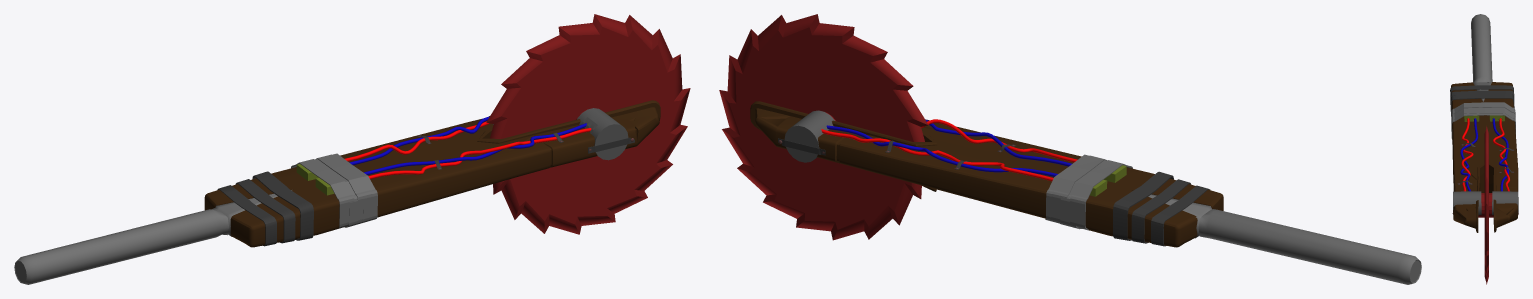
Rendered from RipperCricket 1.FBX.
3 views of the same model, side by side, from view 1: azimuth 30°, elevation 25°; view 2: azimuth 150°, elevation 25°; view 3: azimuth 270°, elevation 25° (orthographic). The views are drawn at different scales.
Parts seen in each view (by area): view 1: SawBlade, BatBlade, BatHandle, Power1, Metal07, Ducktape03, Metal05, Ducktape02, Metal06, Wire01, Wire02, Ducktape04 (+3 smaller); view 2: SawBlade, BatBlade, BatHandle, Power002, Metal07, Ducktape03, Ducktape02, Metal05, Metal06, Wire03, Wire04, Wire01 (+3 smaller); view 3: BatBlade, BatHandle, SawBlade, Power1, Ducktape03, Ducktape02, Metal07, Power002, Metal06, Metal05, Wire02, Wire03 (+6 smaller).
Boxes of the visible parts, x1,y1,x2,y2 form: SawBlade: (486,14,690,234); BatBlade: (204,100,660,247); BatHandle: (14,190,291,284); Power1: (577,108,628,160); Metal07: (252,171,313,240); Ducktape03: (291,159,354,228); Metal05: (235,179,295,243); Ducktape02: (315,154,372,220); Metal06: (217,185,276,246); Wire01: (368,128,591,179); Wire02: (364,123,586,174); Ducktape04: (332,153,377,222); SawBlade: (719,14,928,240); BatBlade: (750,101,1223,247); BatHandle: (1148,194,1421,284); Power002: (784,110,834,162); Metal07: (1113,171,1173,240); Ducktape03: (1070,160,1132,230); Ducktape02: (1051,155,1107,221); Metal05: (1131,179,1191,243); Metal06: (1151,185,1210,246); Wire03: (821,129,1053,181); Wire04: (826,125,1057,176); Wire01: (921,119,1077,162); BatBlade: (1451,82,1518,232); BatHandle: (1471,14,1492,101); SawBlade: (1478,126,1493,284); Power1: (1453,191,1481,215); Ducktape03: (1451,102,1515,129); Ducktape02: (1451,108,1515,133); Metal07: (1450,93,1513,116); Power002: (1492,191,1518,214); Metal06: (1450,85,1513,104); Metal05: (1450,90,1514,111); Wire02: (1460,118,1478,191); Wire03: (1493,118,1509,191).
Size of the model in its own units: 217 by 66.9 by 28.56.
